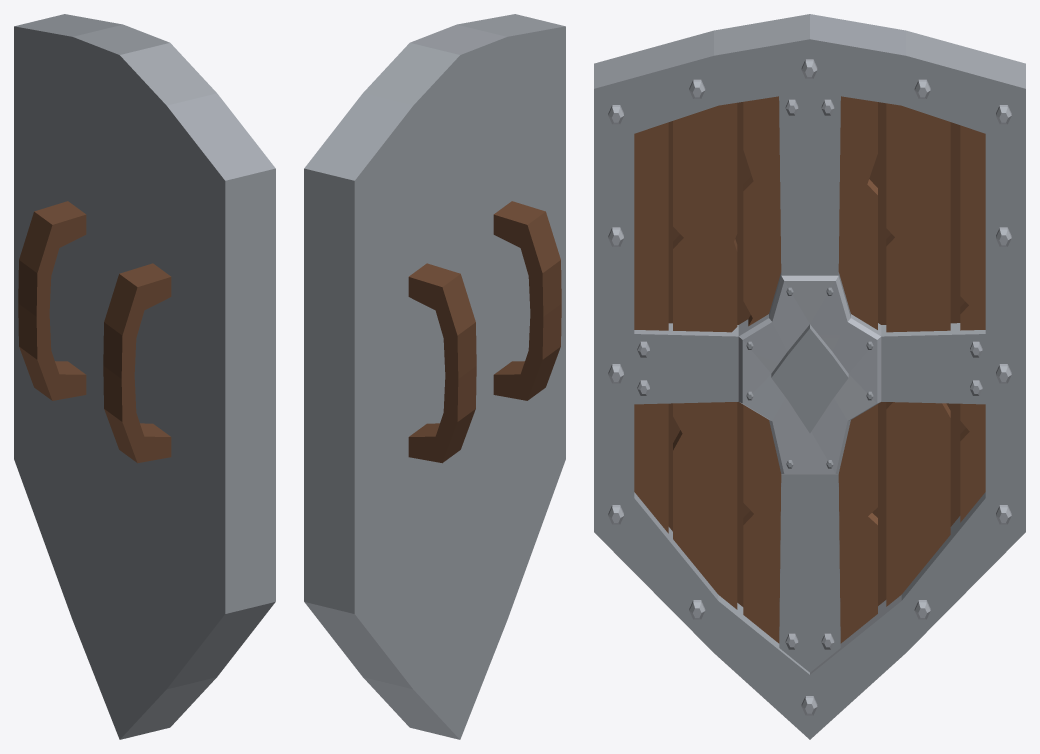
The model's file is tower_shield.glb.
3 views of the same model, side by side, from view 1: azimuth 30°, elevation 25°; view 2: azimuth 150°, elevation 25°; view 3: azimuth 270°, elevation 25° (orthographic). The views are drawn at different scales.
Visible parts, largest first — view 1: tower_shield; view 2: tower_shield; view 3: tower_shield.
Boxes of the visible parts, x1,y1,x2,y2 form: tower_shield: [14, 14, 275, 739]; tower_shield: [304, 14, 565, 739]; tower_shield: [594, 14, 1025, 739].
Bounding box in the file's own units: 0.1791 × 1.08 × 0.6015.
